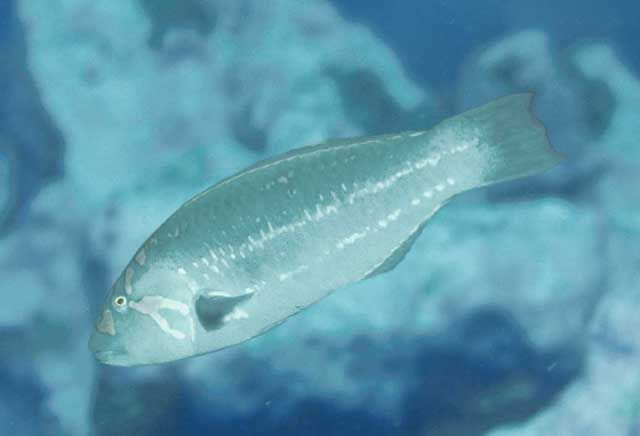fish: (88, 92, 569, 367)
